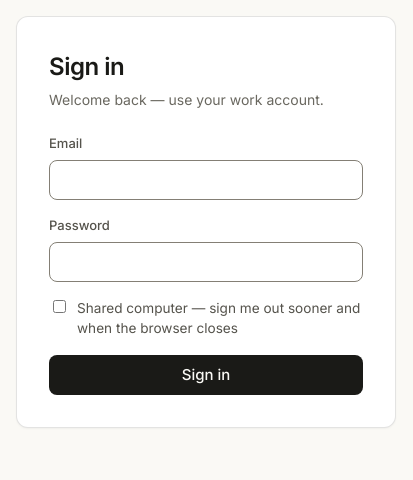
Test: LoginPage › shows the BFF error message when credentials are rejected
Type "a@b.com" into the field labelled "Email".
click(206, 180); type("a@b.com")  # box [49,160,363,200]
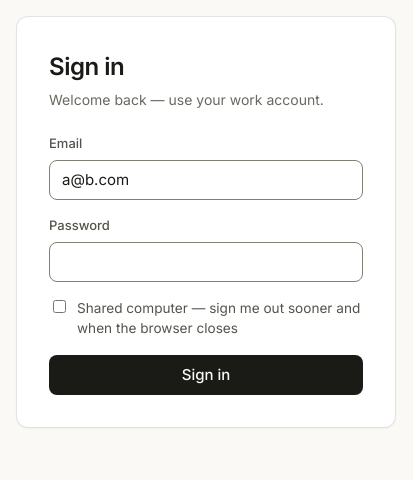
Type "wrong-password-1" into the password field labelled "Password".
click(206, 262); type("wrong-password-1")  # box [49,242,363,282]
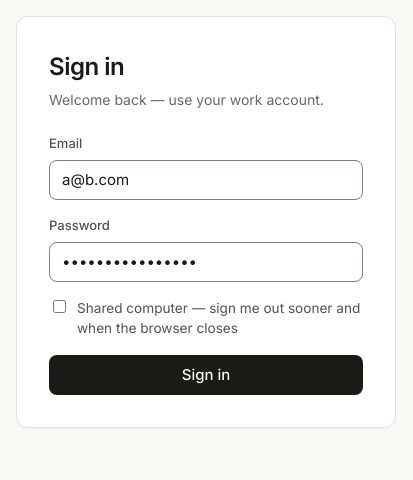
Click the button "Sign in".
click(206, 375)  # box [49,355,363,395]
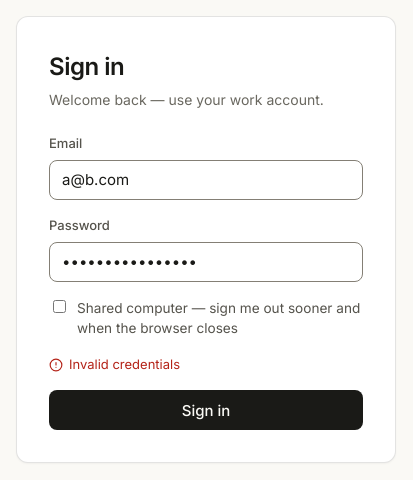
Check: the message reads "Invalid credentials", box [69,356,180,372]
